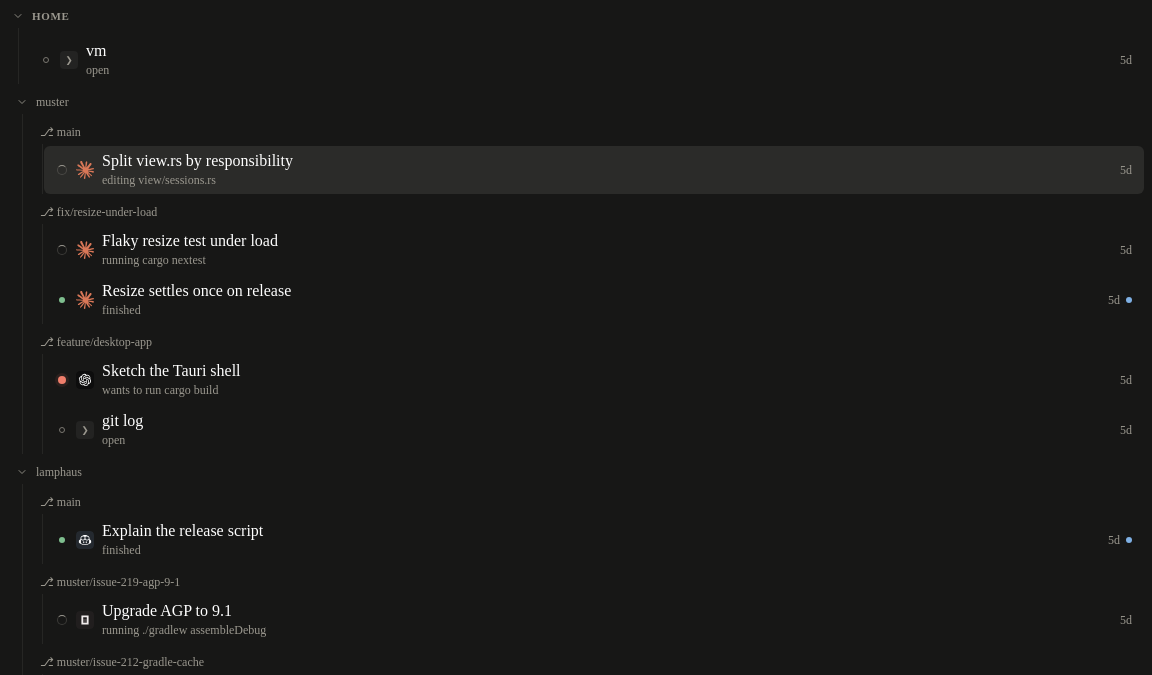
Test: ARC-33 spaces in the window › lists a terminal in no space after the spaces, and one in a space under its heading, which folds it away
Expected: the list item with aria-label "Shell: vm" is shown, [28,36,1144,84]
Click the list item "Home" at (51, 16), box [8,4,1144,28]
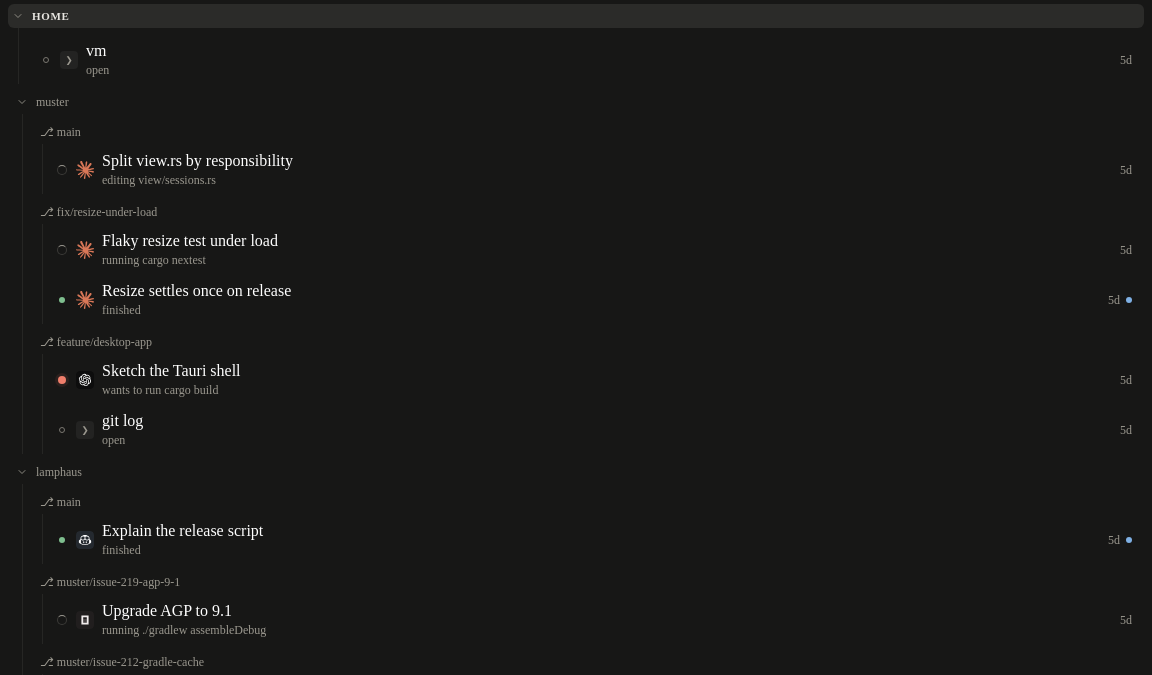
Type keys "e"
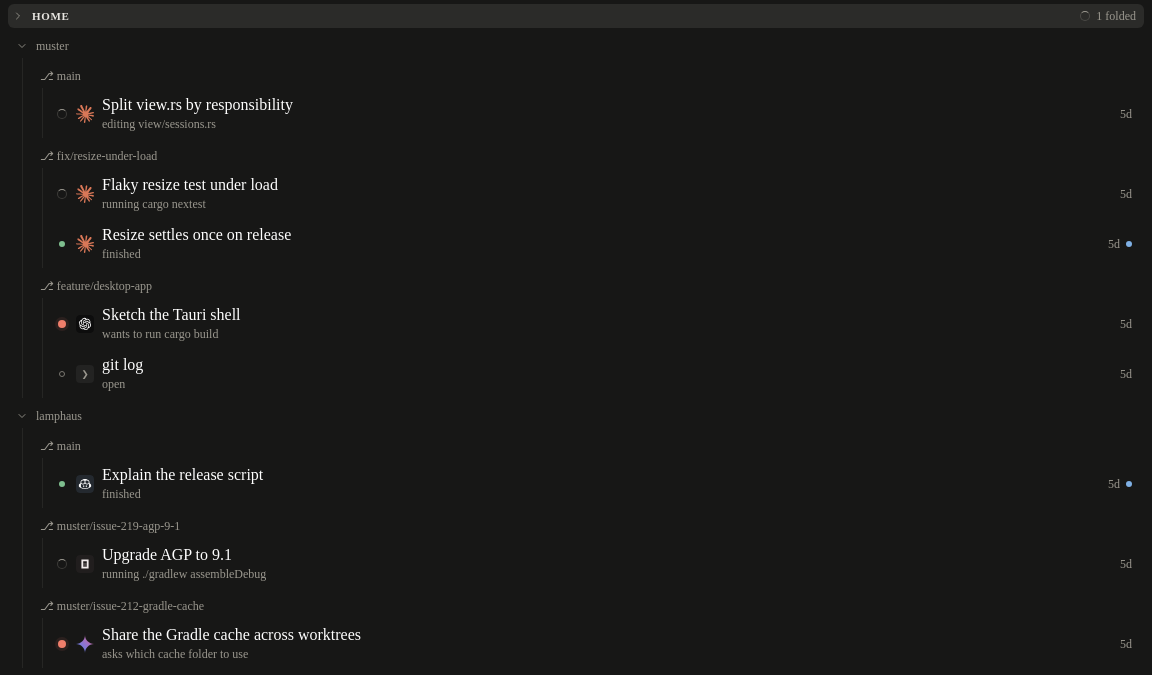
Result: the text "Shell: vm" is gone
Type keys "e"
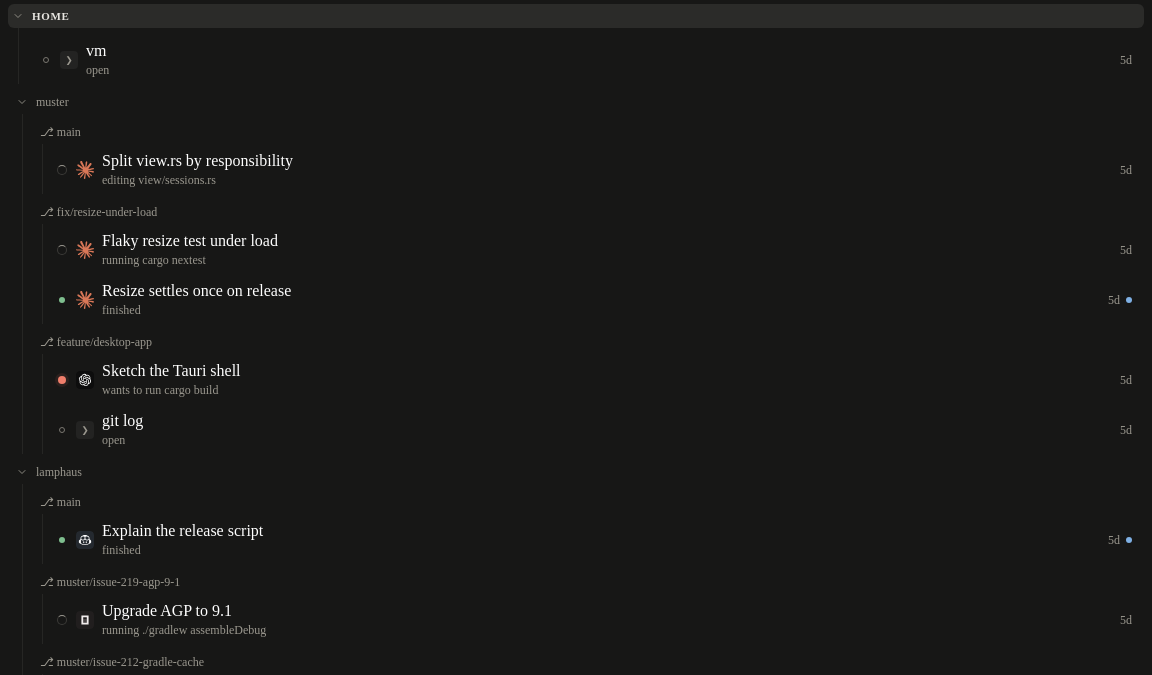
Result: the list item with aria-label "Shell: vm" is shown at [28,36,1144,84]
